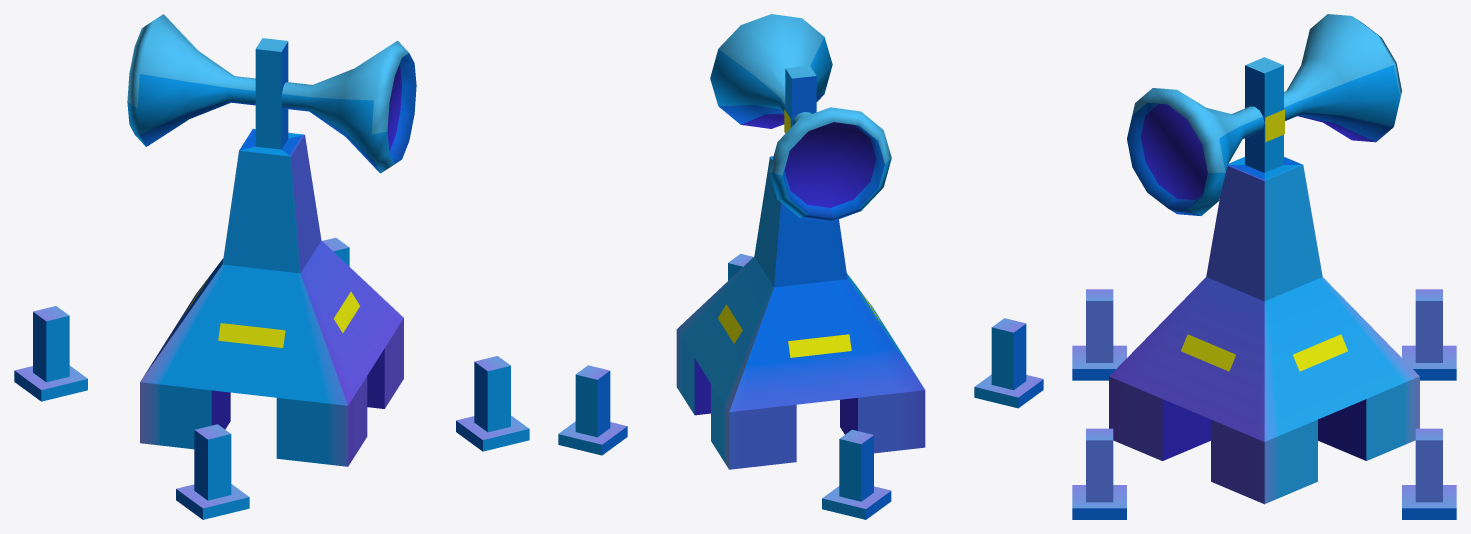
Rendered from CommTower.BlueMoon.glb.
3 views of the same model, side by side, from view 1: azimuth 30°, elevation 25°; view 2: azimuth 150°, elevation 25°; view 3: azimuth 270°, elevation 25° (orthographic). The views are drawn at different scales.
Parts seen in each view (by area): view 1: CommTower.BlueMoon; view 2: CommTower.BlueMoon; view 3: CommTower.BlueMoon.
Part boxes in pixels (x1=…): CommTower.BlueMoon: x1=14, y1=14, x2=529, y2=519; CommTower.BlueMoon: x1=558, y1=14, x2=1043, y2=519; CommTower.BlueMoon: x1=1072, y1=14, x2=1456, y2=519.
Bounding box in the file's own units: 2.8 × 3.1 × 2.8.
2 materials, 1 textured.
